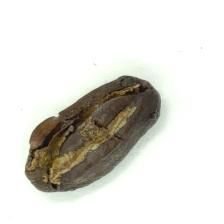NG: (25, 99, 109, 190), (96, 73, 159, 156)
